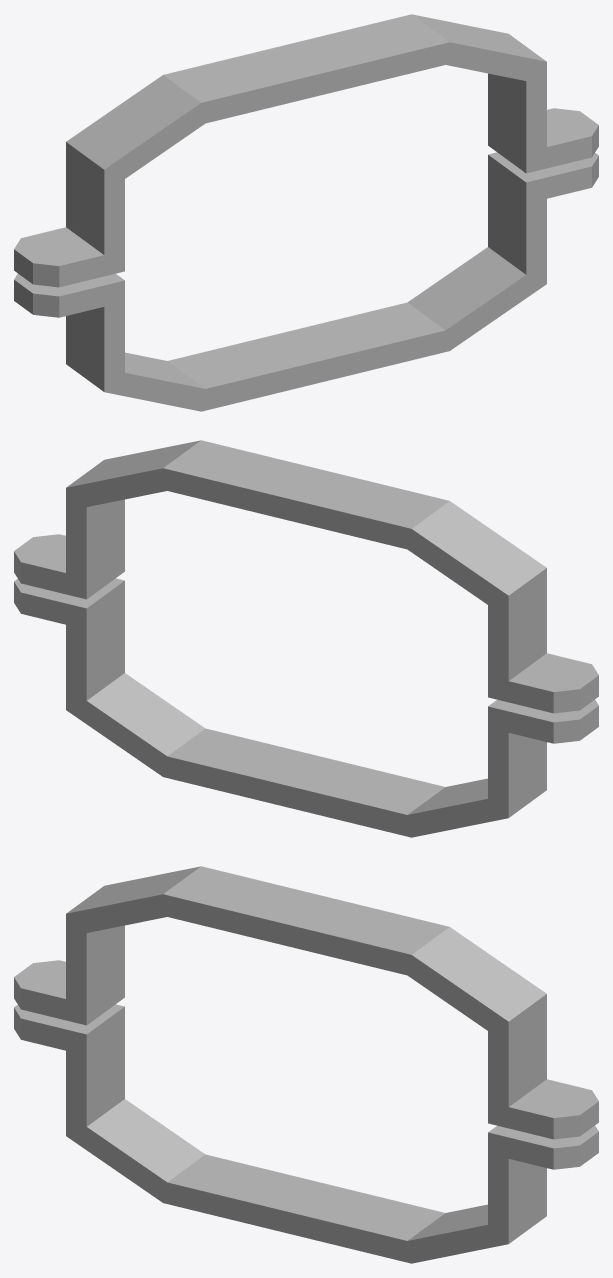
Rendered from space_station_decoration_007.fbx.
3 renders of one model, top to bottom at view 1: azimuth 30°, elevation 25°; view 2: azimuth 150°, elevation 25°; view 3: azimuth 330°, elevation 25°, orthographic.
Parts seen in each view (by area): view 1: space_station_decoration_007; view 2: space_station_decoration_007; view 3: space_station_decoration_007.
Part boxes in pixels (x1,y1,x2,y2): space_station_decoration_007: (14, 14, 598, 411); space_station_decoration_007: (14, 440, 598, 837); space_station_decoration_007: (14, 866, 598, 1263).
Bounding box in the file's own units: 835 × 97.66 × 436.
